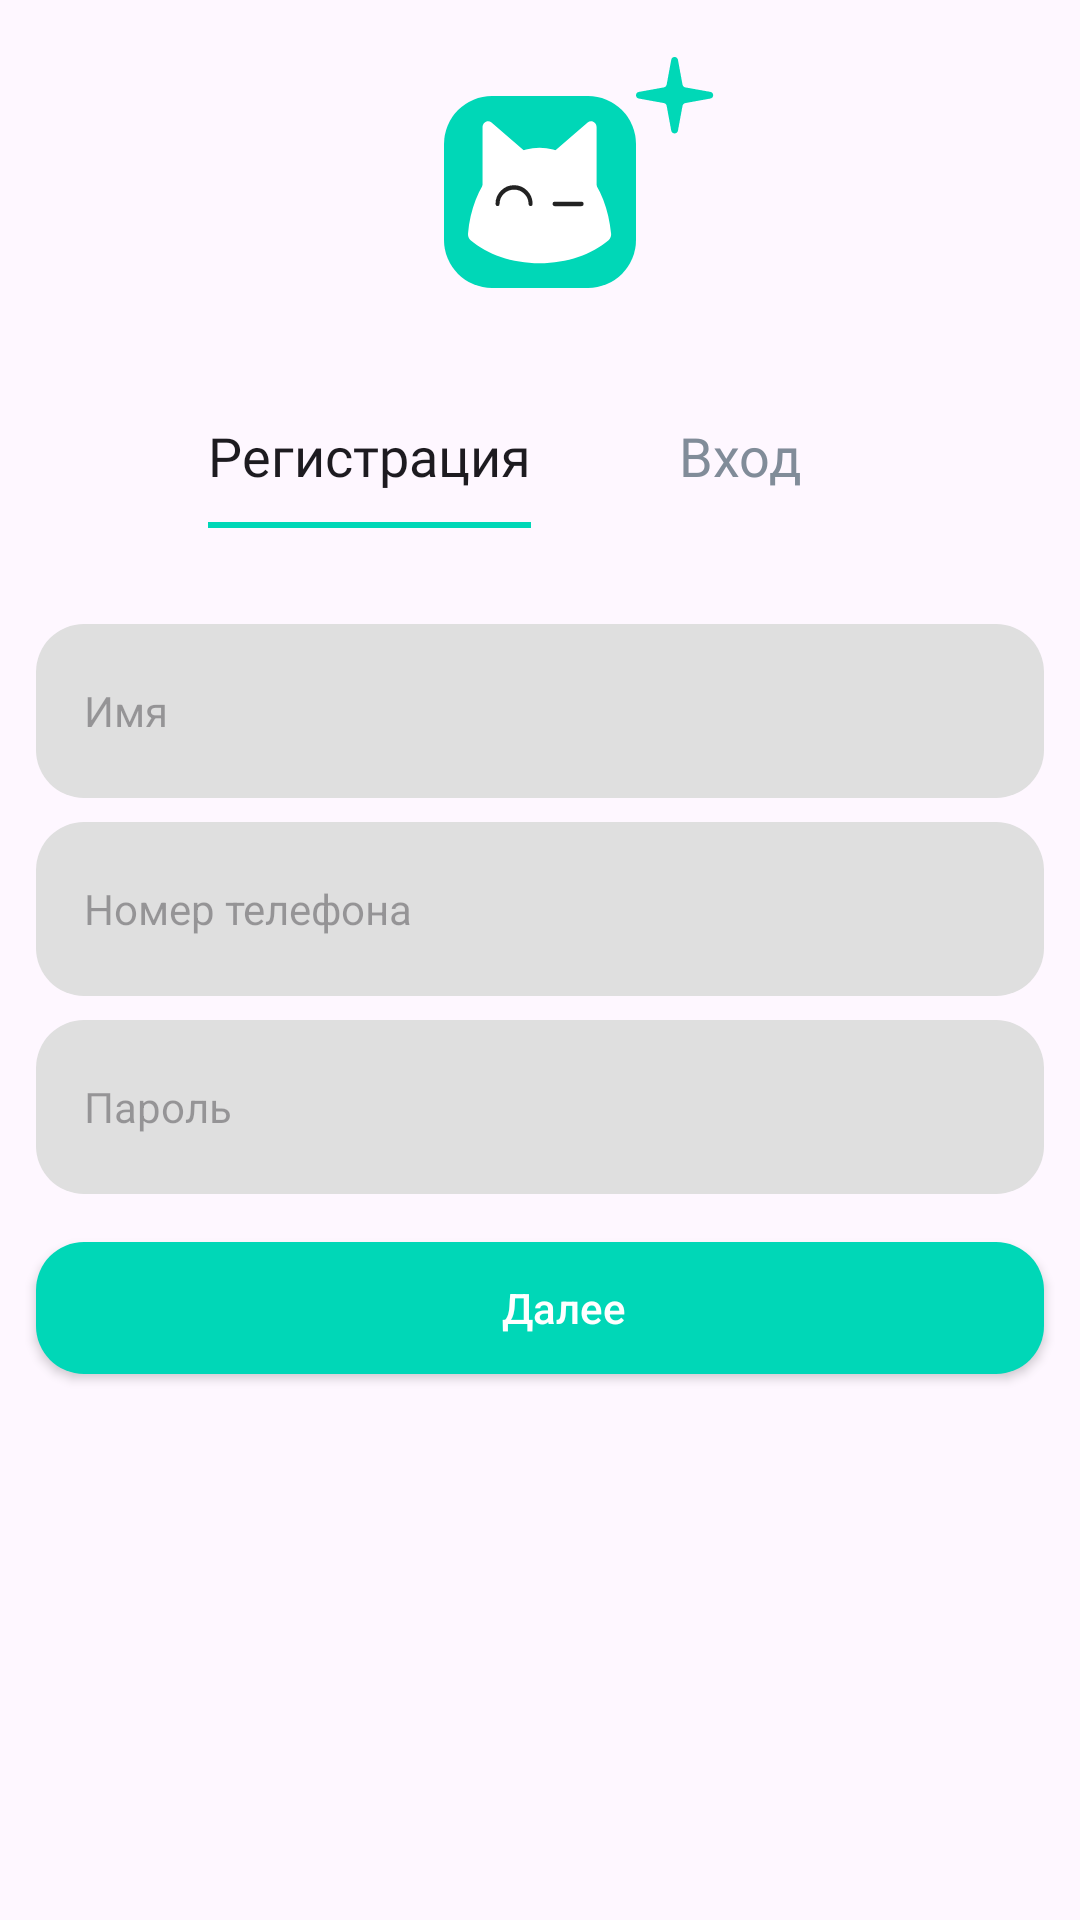

Icon bounding boxes for this 1080*1920 phone screenshot, format (x1, y1, x2, y2):
star: (636, 57, 714, 134)
